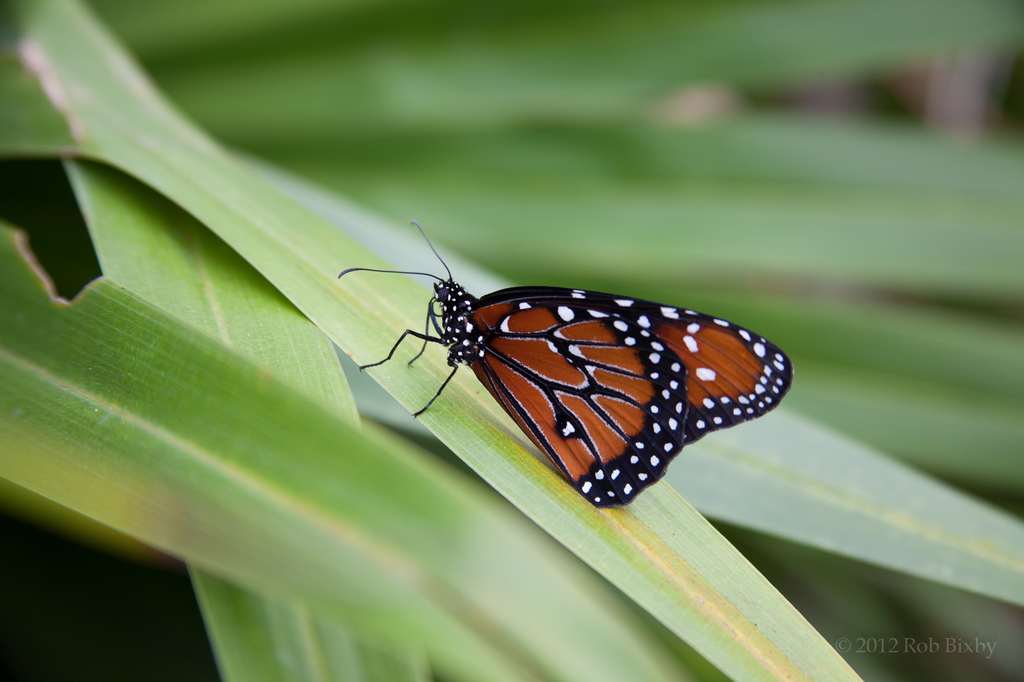Butterfly: (375, 241, 804, 524)
